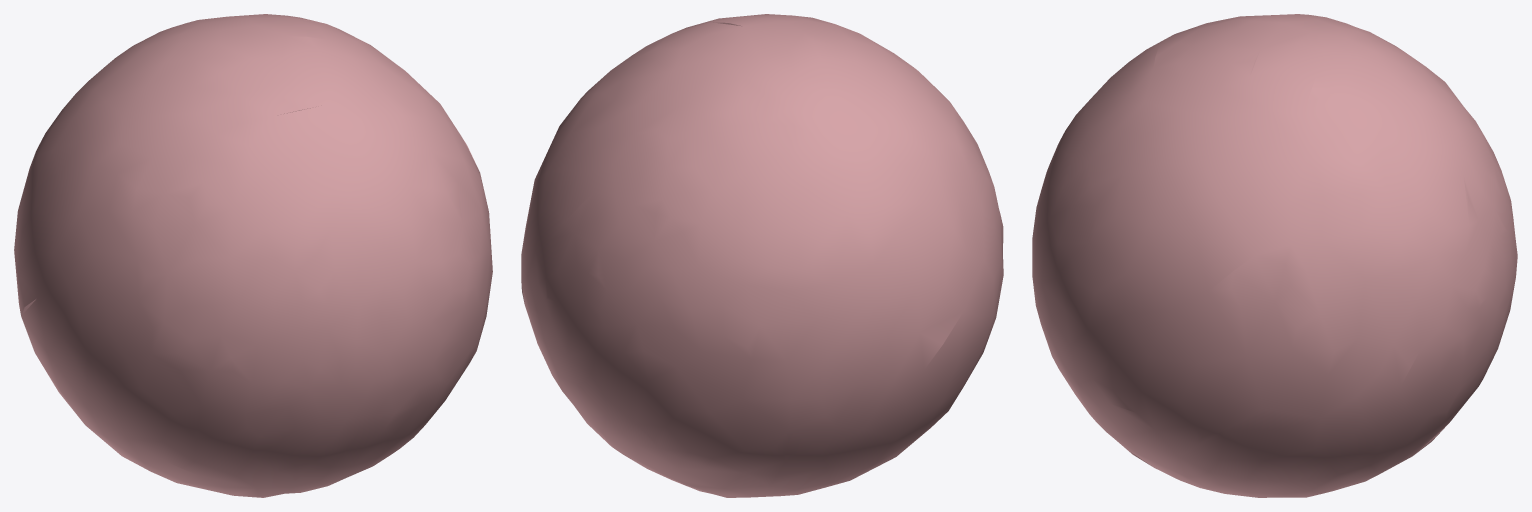
The model's file is fma276277_mm2151m.glb.
3 renders of one model, left to right at view 1: azimuth 30°, elevation 25°; view 2: azimuth 150°, elevation 25°; view 3: azimuth 270°, elevation 25°, orthographic.
Parts seen in each view (by area): view 1: FMA276277_MM2151M; view 2: FMA276277_MM2151M; view 3: FMA276277_MM2151M.
Boxes of the visible parts, x1,y1,x2,y2 form: FMA276277_MM2151M: [14, 14, 492, 497]; FMA276277_MM2151M: [521, 14, 1003, 497]; FMA276277_MM2151M: [1032, 14, 1517, 497].
Bounding box in the file's own units: 0.00297 × 0.00297 × 0.00298.
